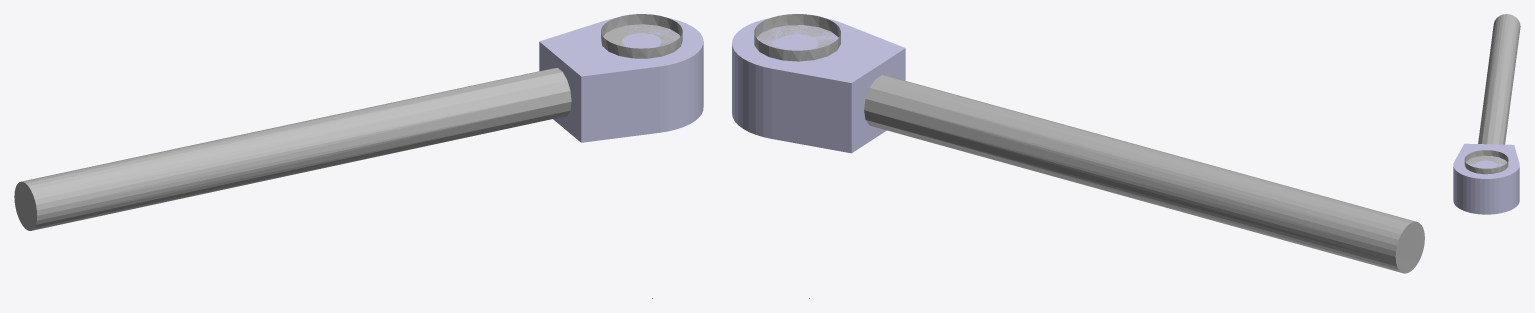
3 renders of one model, left to right at view 1: azimuth 30°, elevation 25°; view 2: azimuth 150°, elevation 25°; view 3: azimuth 270°, elevation 25°, orthographic. The views are drawn at different scales.
Visible parts, largest first — view 1: node; view 2: node; view 3: node.
Part boxes in pixels (x1=…): node: x1=14, y1=14, x2=703, y2=298; node: x1=732, y1=14, x2=1424, y2=298; node: x1=1453, y1=14, x2=1520, y2=214.
Size of the model in its own units: 597 by 227 by 99.15.
